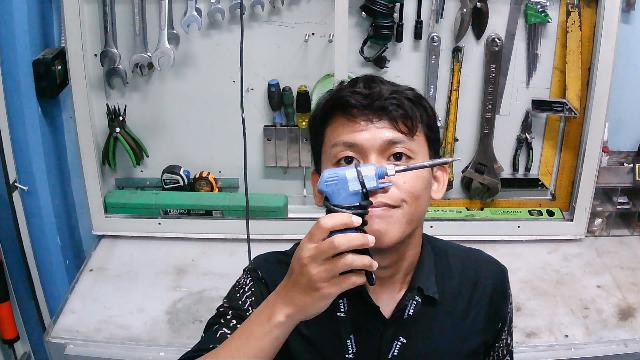solder_electrical: (315, 151, 463, 288)
